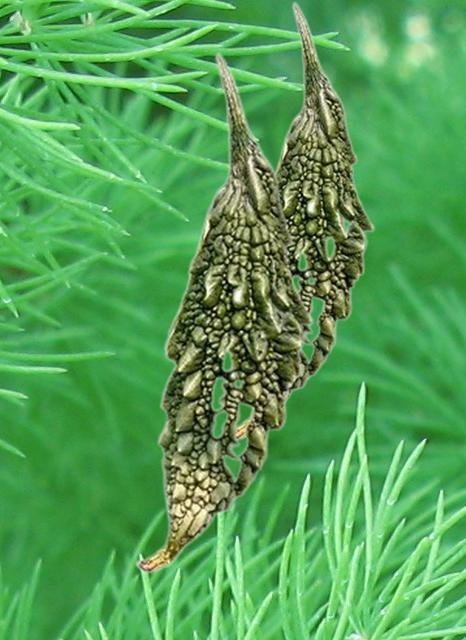ampalaya: (134, 50, 313, 572), (239, 0, 374, 439)
